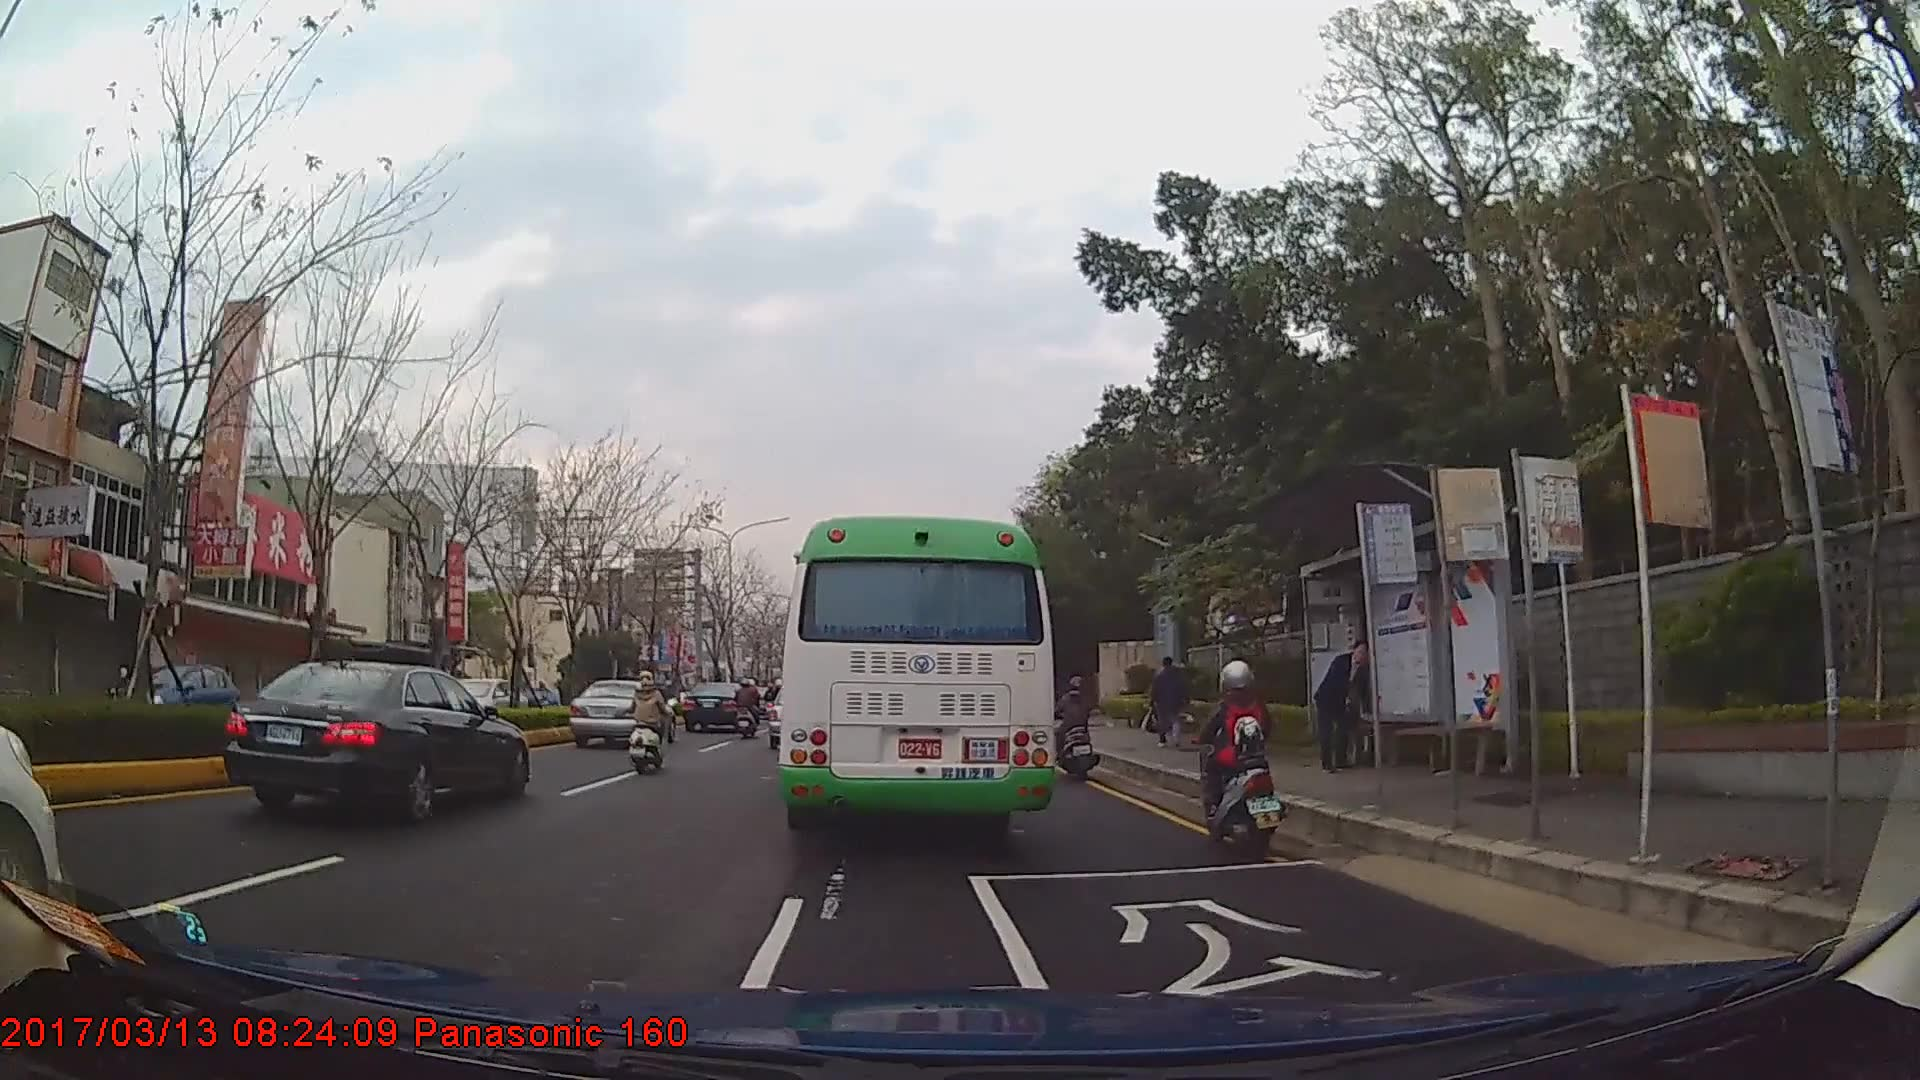pedestrian: (1319, 637, 1376, 777), (1143, 654, 1190, 751)
rider: (1189, 663, 1289, 855), (1053, 674, 1100, 783), (630, 670, 674, 771), (735, 678, 760, 739), (107, 666, 133, 700)
vehicle: (778, 514, 1054, 839), (214, 659, 527, 818), (121, 659, 239, 736), (570, 676, 677, 748), (429, 669, 531, 731), (681, 677, 749, 731)
